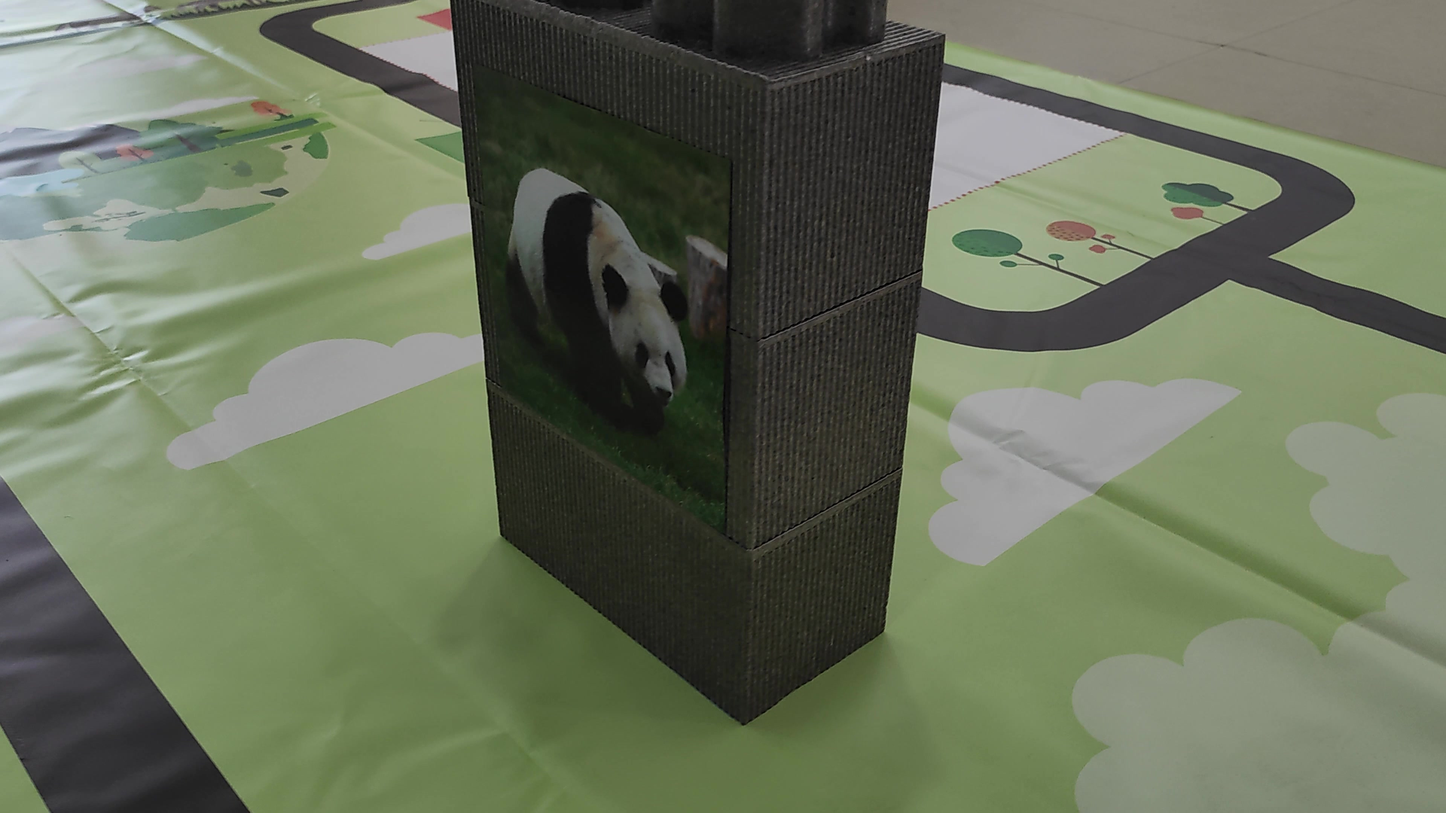panda: (485, 161, 698, 438)
